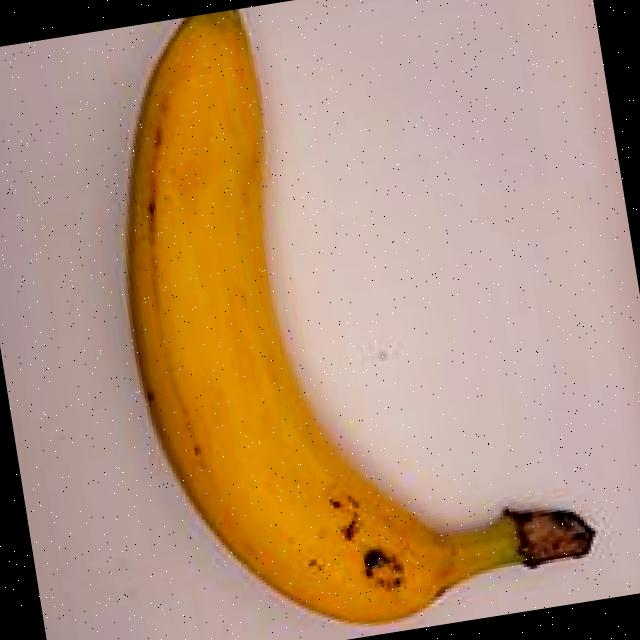Ripe: (53, 0, 624, 640)
